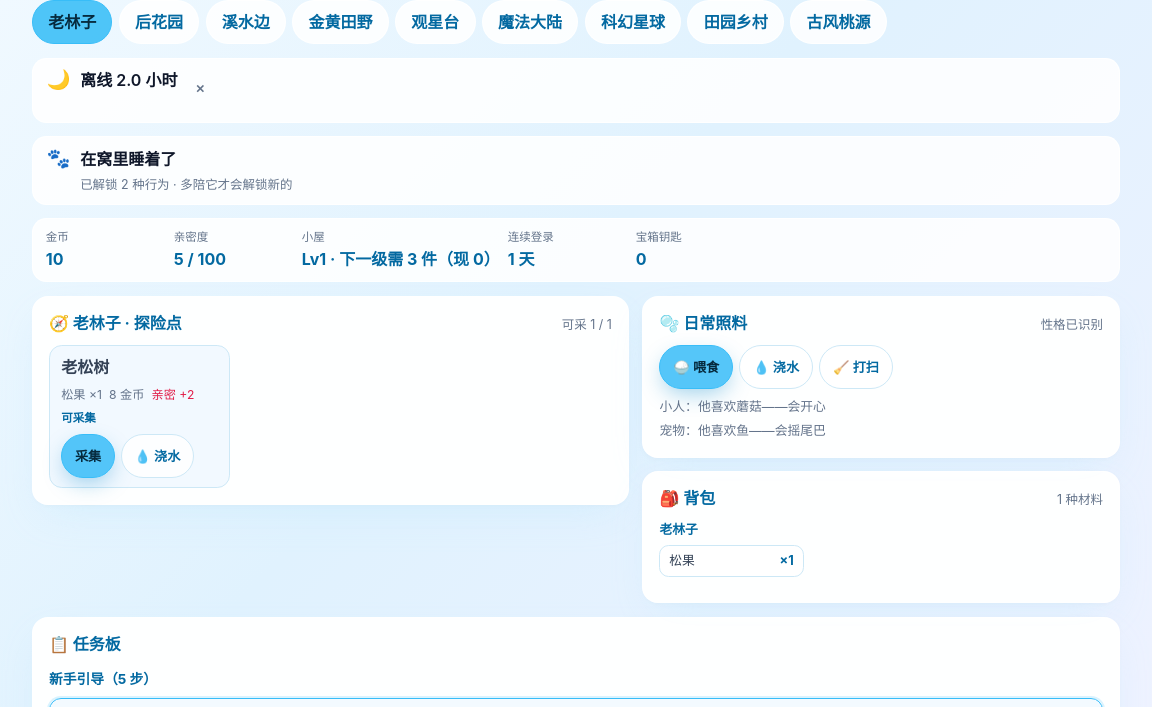
GameplayPanel · 离线与照料 › 可以关闭离线提示
Click the button with test id "w2-offline-close" at coordinates (200, 90), box [187,68,213,112]
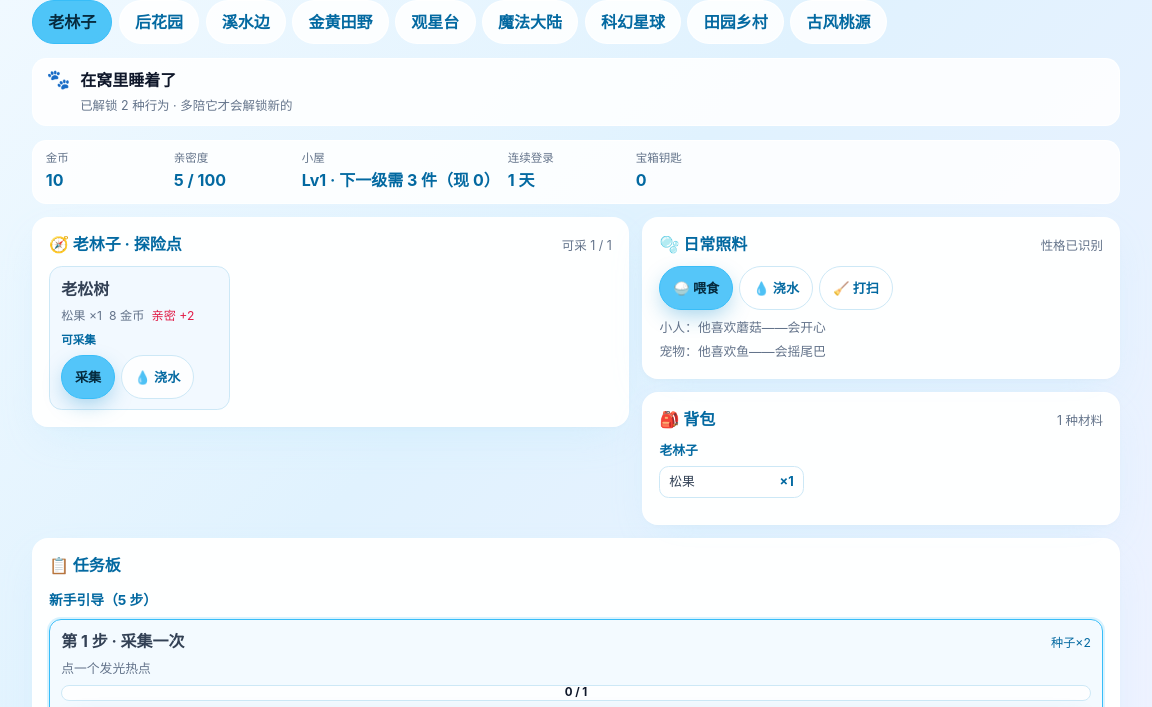
Check: the message with test id "w2-offline-bar" is gone
